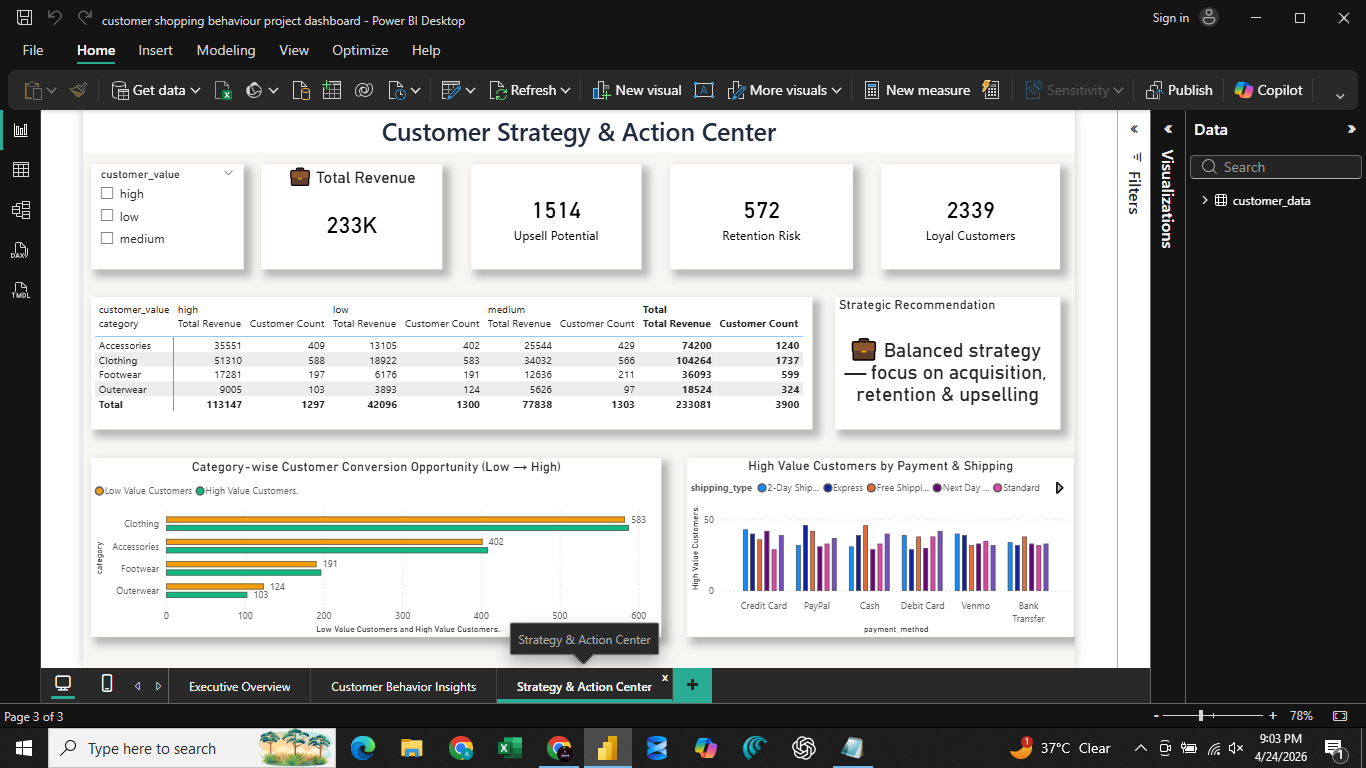

The dashboard page shown, as its layout file describes it:
{"tool":"powerbi","page":{"name":"Strategy & Action Center","canvas":[1280,720],"ordinal":2},"visuals":[{"type":"card","fields":{"Values":["customer_data.Revenue Opportunity"]},"box":[229.9,69.4,234.2,135.9],"z":0},{"type":"card","fields":{"Values":["customer_data.Upsell Potential"]},"box":[500.7,69.4,219.8,135.9],"z":1000},{"type":"card","fields":{"Values":["customer_data.Retention Risk"]},"box":[757.1,69.4,235.7,135.9],"z":2000},{"type":"card","fields":{"Values":["customer_data.Loyal Customers"]},"box":[1029.4,69.4,231.3,135.9],"z":3000},{"type":"textbox","box":[0,0,1279.5,54.9],"z":4000},{"type":"pivotTable","fields":{"Rows":["customer_data.category"],"Columns":["customer_data.customer_value"],"Values":["customer_data.Total Revenue","customer_data.Customer Count"]},"box":[10.1,241.4,931.1,170.6],"z":5000},{"type":"clusteredBarChart","title":"Category-wise Customer Conversion Opportunity (Low → High)","fields":{"Category":["customer_data.category"],"Y":["customer_data.Low Value Customers","customer_data.High Value Customers."]},"box":[10.1,449.6,735.9,231.3],"z":6000},{"type":"card","title":"Strategic Recommendation","fields":{"Values":["customer_data.Smart Recommendation"]},"box":[970.1,241.4,290.6,170.6],"z":7000},{"type":"clusteredColumnChart","title":"High Value Customers by Payment & Shipping","fields":{"Category":["customer_data.payment_method"],"Y":["customer_data.High Value Customers."],"Series":["customer_data.shipping_type"]},"box":[779.3,449.6,500.2,231.3],"z":8000},{"type":"slicer","fields":{"Values":["customer_data.customer_value"]},"box":[10.1,69.4,196.6,135.9],"z":8001}]}

Visuals, with their boxes on the page's 1280x720 design canvas (x1, y1, x2, y2). These are canvas units, not pixel positions in the 1366x768 screenshot, which may show the page scaled, cropped or inside an application window:
card - customer_data.Revenue Opportunity: [230,69,464,205]
card - customer_data.Upsell Potential: [501,69,720,205]
card - customer_data.Retention Risk: [757,69,993,205]
card - customer_data.Loyal Customers: [1029,69,1261,205]
textbox: [0,0,1280,55]
pivotTable - customer_data.category x customer_data.customer_value: [10,241,941,412]
"Category-wise Customer Conversion Opportunity (Low → High)" clusteredBarChart: [10,450,746,681]
"Strategic Recommendation" card: [970,241,1261,412]
"High Value Customers by Payment & Shipping" clusteredColumnChart: [779,450,1280,681]
slicer - customer_data.customer_value: [10,69,207,205]
